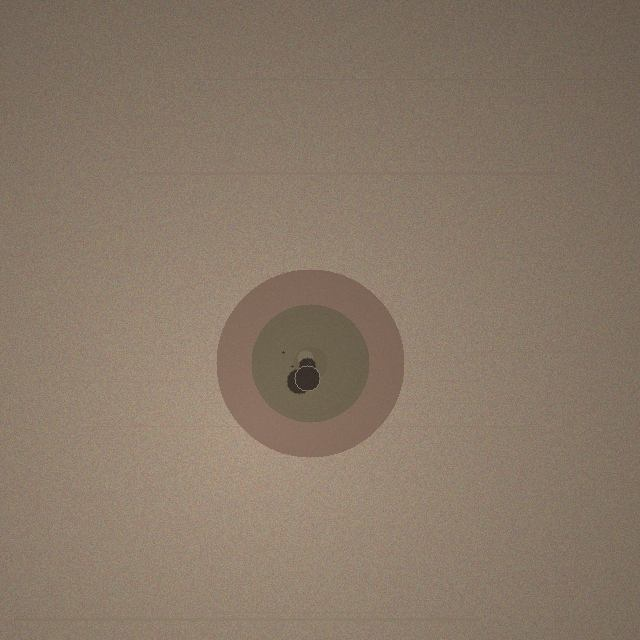shrinkage: (216, 269, 404, 457)
